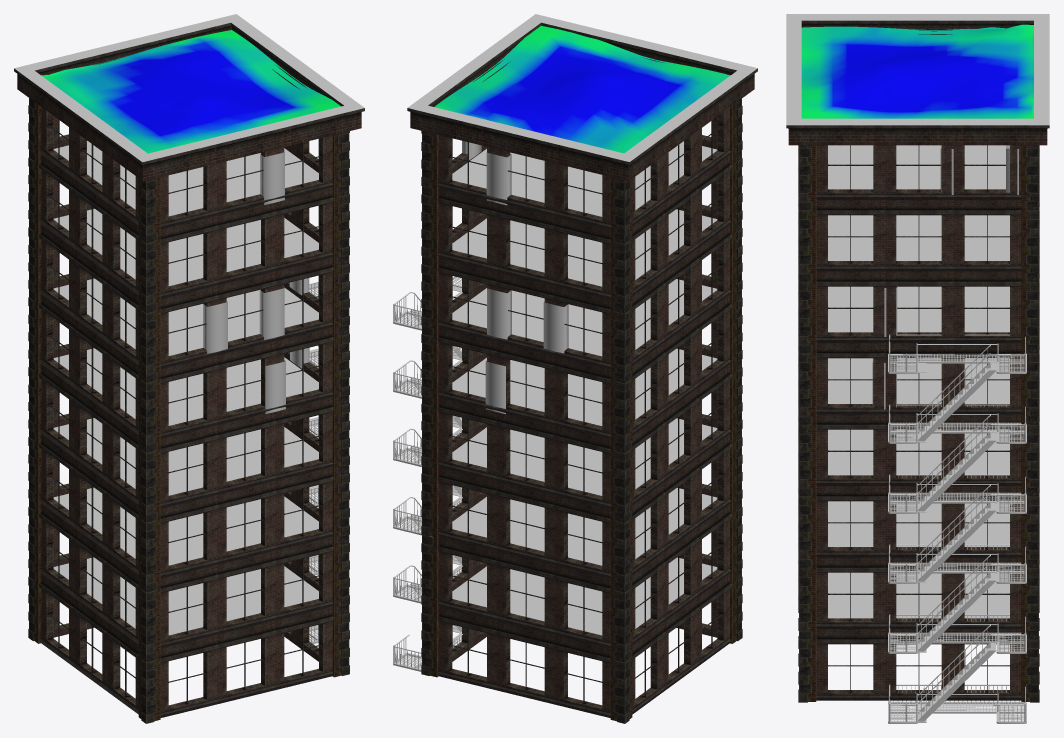
Rendered from BuildingRedSm02_stairs.fbx.
The picture shows the model from 3 angles, left to right: view 1: azimuth 30°, elevation 25°; view 2: azimuth 150°, elevation 25°; view 3: azimuth 270°, elevation 25°; orthographic projection. The views are drawn at different scales.
Visible parts, largest first — view 1: Cube.425, Cube.426, Cube.476, Cube.475, Plane.075, Plane.076, Plane.070, Plane.073, Plane.071, Plane.072, Plane.074, Cube.481 (+4 smaller); view 2: Cube.425, Cube.426, Cube.476, Cube.475, Plane.075, Plane.076, Plane.070, Plane.073, Plane.071, Cube.549, Plane.072, Plane.074 (+4 smaller); view 3: Cube.425, Cube.549, Cube.476, Cube.426, Cube.475, Plane.073, Plane.072, Plane.074, Plane.075, Plane.076, Plane.071, Plane.070.
Boxes of the visible parts, x1,y1,x2,y2 form: Cube.425: (39,59,333,717); Cube.426: (28,98,349,723); Cube.476: (41,30,340,153); Cube.475: (14,14,364,181); Plane.075: (53,557,318,635); Plane.076: (53,487,318,565); Plane.070: (53,418,318,495); Plane.073: (53,208,318,285); Plane.071: (53,348,318,425); Plane.072: (53,278,318,355); Plane.074: (53,141,318,216); Cube.481: (259,288,284,339); Cube.425: (437,57,731,717); Cube.426: (421,99,742,723); Cube.476: (434,25,730,153); Cube.475: (407,14,757,181); Plane.075: (452,557,717,635); Plane.076: (452,487,717,565); Plane.070: (452,418,717,495); Plane.073: (452,209,717,286); Plane.071: (452,348,717,425); Cube.549: (393,276,462,671); Plane.072: (452,279,717,356); Plane.074: (452,141,717,216); Cube.425: (808,30,1029,700); Cube.549: (888,334,1026,723); Cube.476: (801,24,1033,118); Cube.426: (798,145,1039,702); Cube.475: (786,14,1049,145); Plane.073: (828,215,1009,260); Plane.072: (828,286,1009,332); Plane.074: (828,145,1005,189); Plane.075: (828,572,1009,618); Plane.076: (828,501,1009,546); Plane.071: (828,358,1009,403); Plane.070: (828,429,1009,475).
Size of what is drawn, in the model's own units: 1521 by 3355 by 1360.
